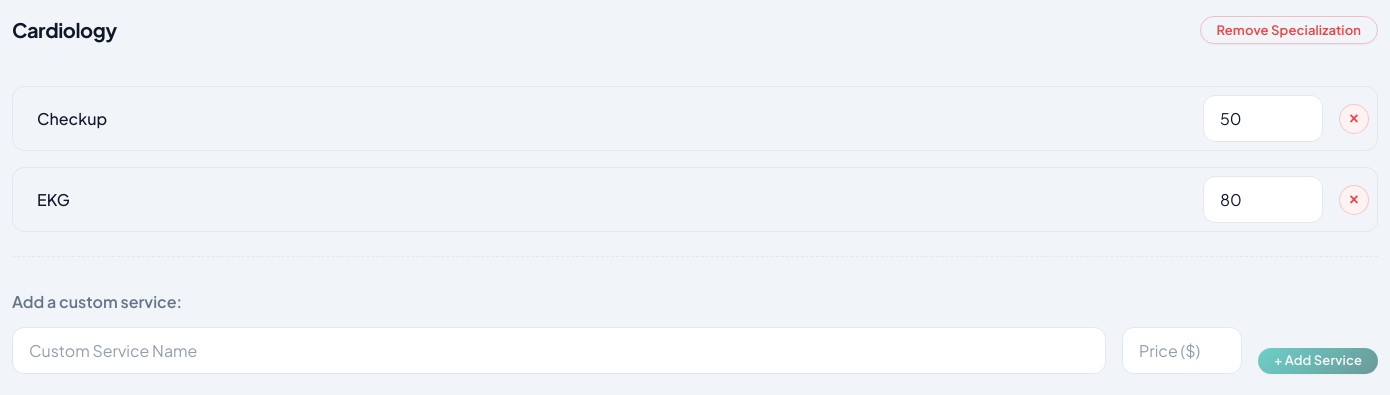
Scenario: SpecializationEditor › keeps the "Add Service" button disabled until name and positive price are provided
Expected: the button "+ Add Service" is disabled, [1258,348,1378,374]
Step 1. Type "New Service" into the field with placeholder "Custom Service Name" → x=559, y=350, box [13,328,1105,373]
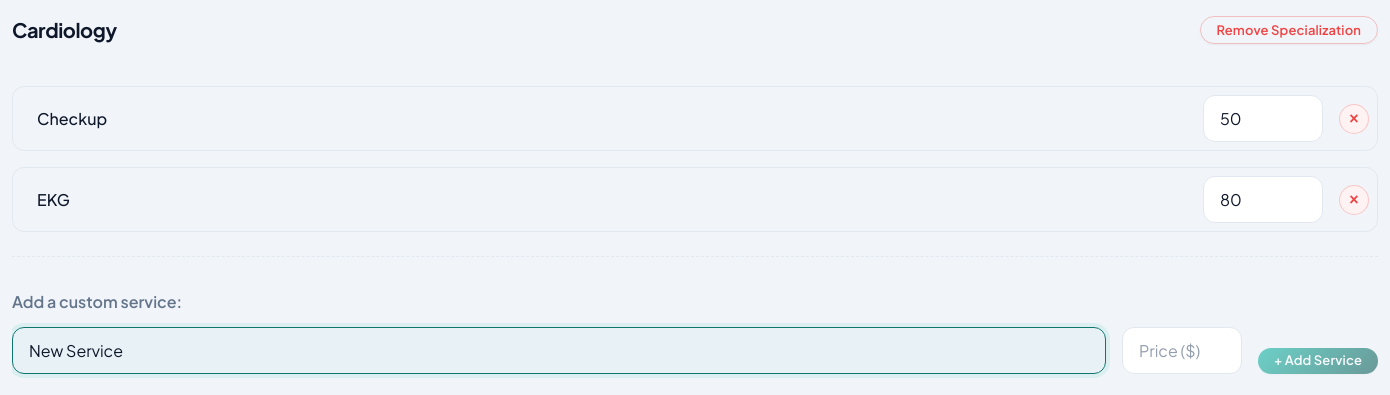
Expected: the button "+ Add Service" is disabled, [1258,348,1378,374]
Step 2. Type "25" into the number field with placeholder "Price ($)" → x=1182, y=350, box [1123,328,1241,373]
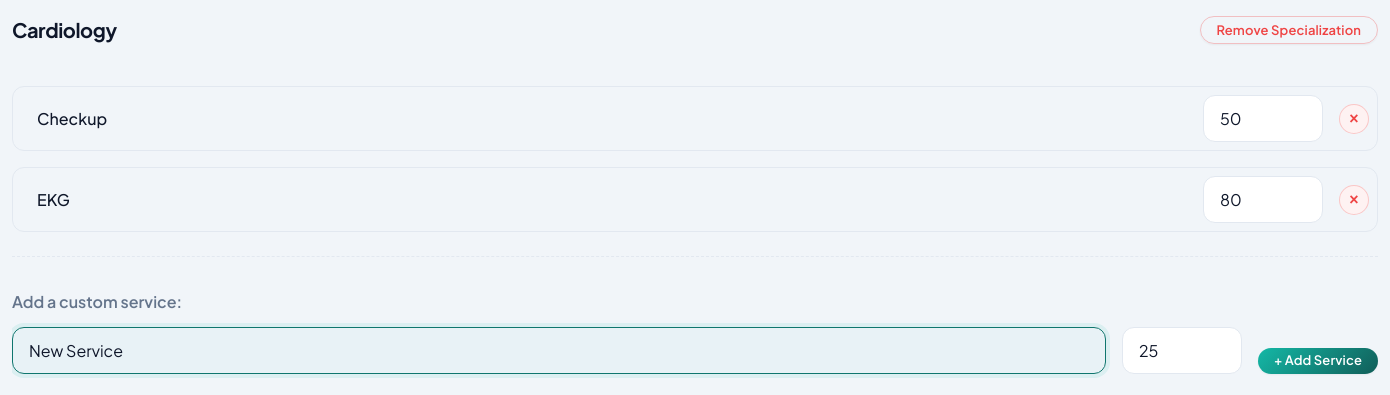
Expected: the button "+ Add Service" is enabled, [1258,348,1378,374]
